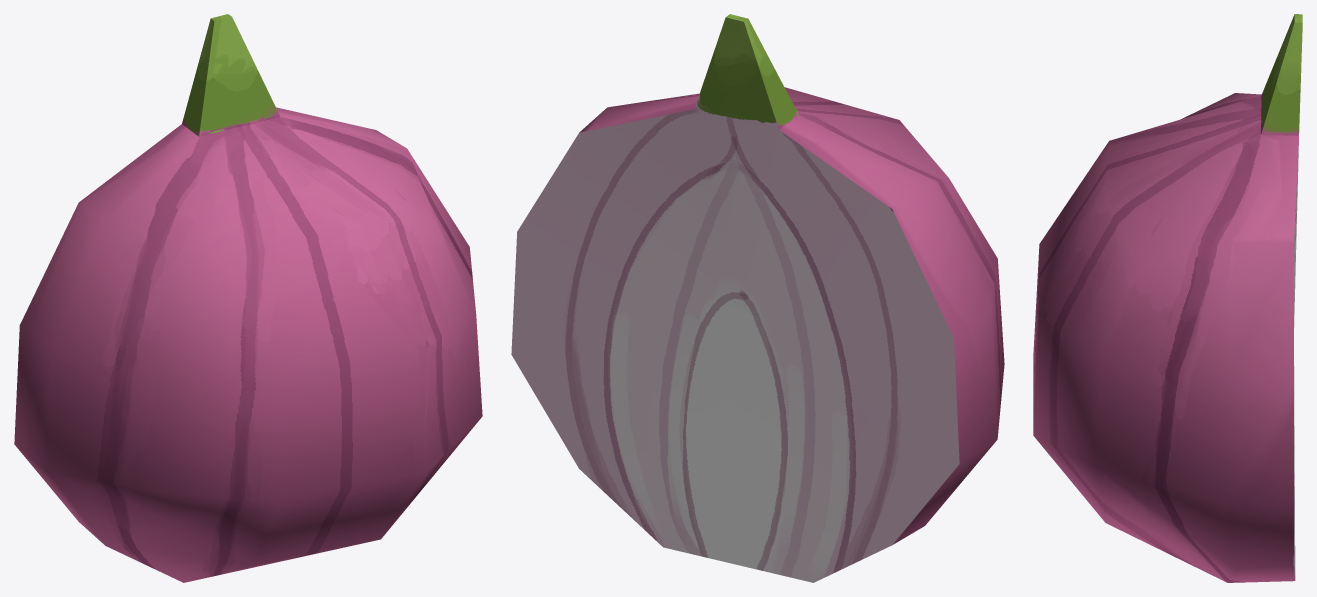
File: onion.fbx
3 views of the same model, side by side, from view 1: azimuth 30°, elevation 25°; view 2: azimuth 150°, elevation 25°; view 3: azimuth 270°, elevation 25° (orthographic). The views are drawn at different scales.
Visible parts, largest first — view 1: onion; view 2: onion; view 3: onion.
Part boxes in pixels (<box>): onion: <box>14,14,482,582</box>; onion: <box>511,14,1004,582</box>; onion: <box>1033,14,1302,582</box>.
Size of the model in its own units: 28.29 by 33.02 by 15.25.
1 material, 1 textured.
